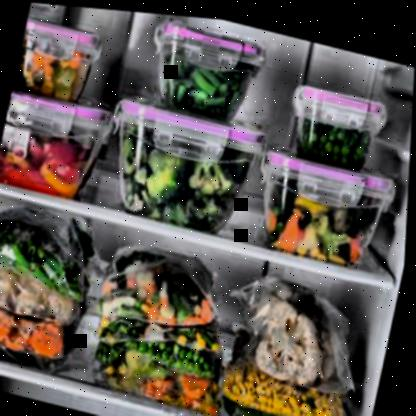broccoli: (115, 139, 234, 223)
peas: (301, 115, 371, 163), (154, 337, 211, 371)
